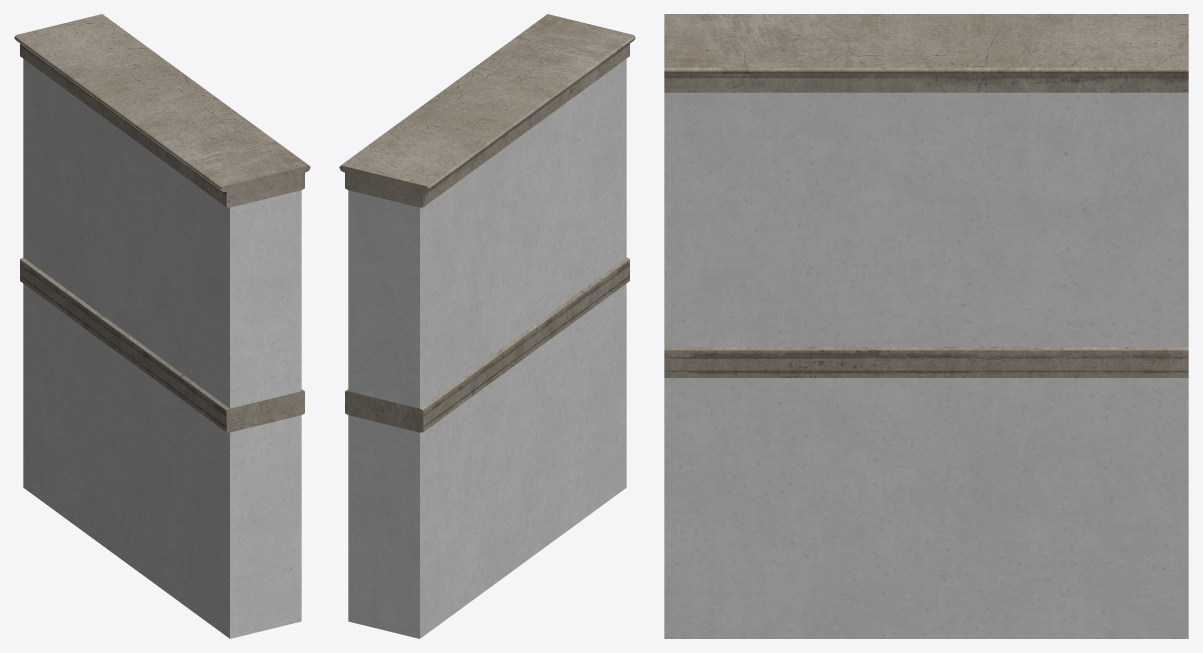
The model's file is MB_Fence_C_2m.fbx.
3 renders of one model, left to right at view 1: azimuth 30°, elevation 25°; view 2: azimuth 150°, elevation 25°; view 3: azimuth 270°, elevation 25°, orthographic. The views are drawn at different scales.
Visible parts, largest first — view 1: MB_Fence_C_2m; view 2: MB_Fence_C_2m; view 3: MB_Fence_C_2m.
Part boxes in pixels (<box>): MB_Fence_C_2m: <box>14,14,310,638</box>; MB_Fence_C_2m: <box>339,14,635,638</box>; MB_Fence_C_2m: <box>664,14,1188,638</box>.
Bounding box in the file's own units: 50.05 × 242 × 200.
